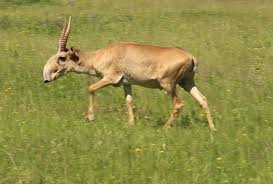saiga: (41, 15, 216, 135)
